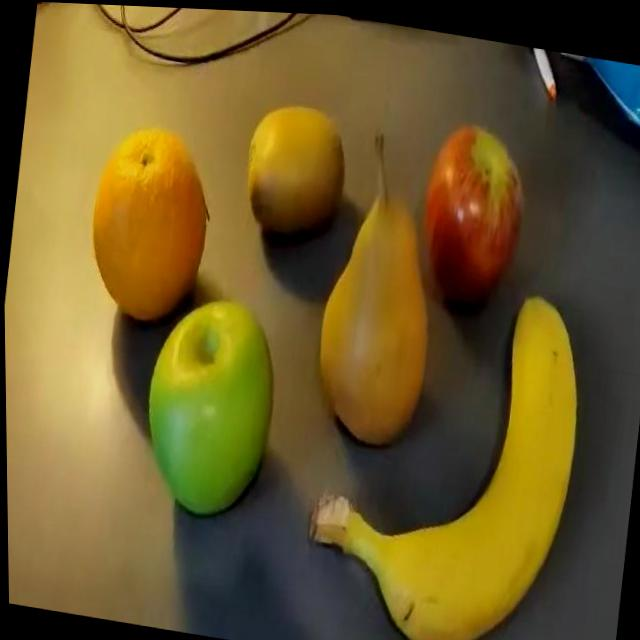Apple: (133, 286, 285, 524), (411, 112, 534, 311)
Banana: (292, 256, 594, 640)
Orange: (79, 115, 220, 329)
